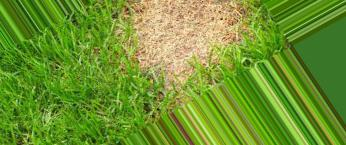patch: (189, 12, 228, 42), (156, 31, 188, 66), (132, 24, 148, 45), (156, 11, 176, 24)
